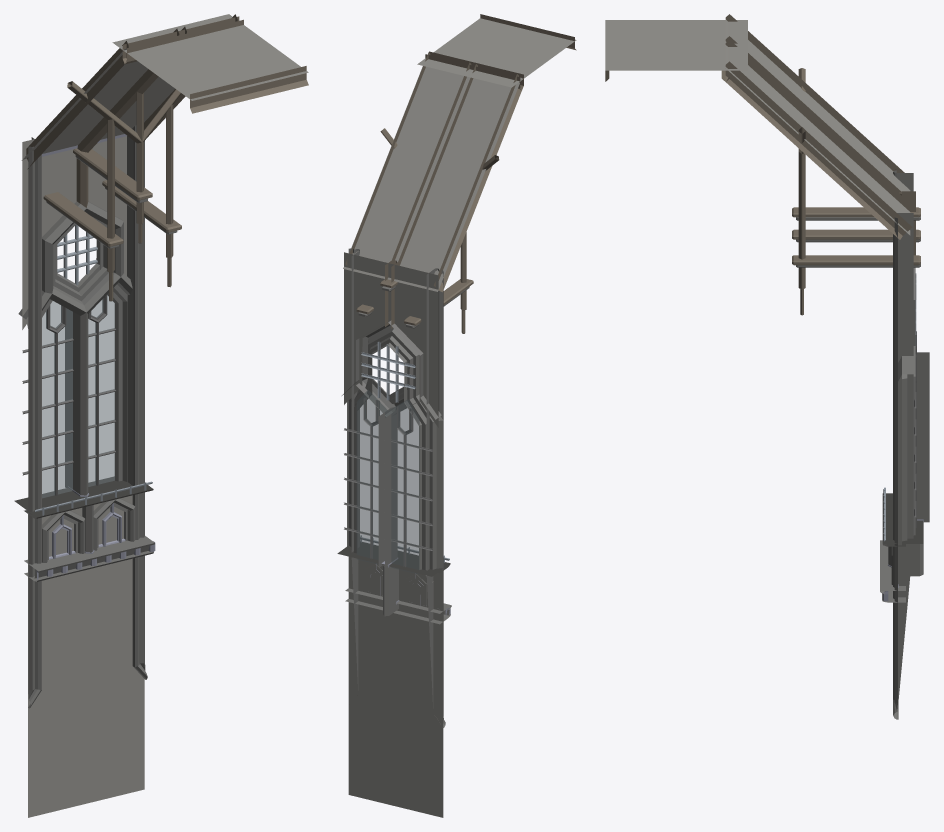
The model's file is Stair_Wall_Tile.fbx.
3 renders of one model, left to right at view 1: azimuth 30°, elevation 25°; view 2: azimuth 150°, elevation 25°; view 3: azimuth 270°, elevation 25°, orthographic. The views are drawn at different scales.
Visible parts, largest first — view 1: pCube15, polySurface2, pCube856, polySurface20, polySurface453, pCube109, polySurface459, polySurface68, pCube130, polySurface619, pCube18, pCube35 (+17 smaller); view 2: pCube15, pCube130, polySurface20, pCube109, pCube856, polySurface453, polySurface2, polySurface459, polySurface68, polySurface620, polySurface80, pCube35 (+9 smaller); view 3: polySurface2, pCube856, pCube130, polySurface82, polySurface20, polySurface68, polySurface80, polySurface620, pCube137, pCube135, polySurface93, pCube132 (+2 smaller).
Part boxes in pixels (x1,y1,x2,y2): pCube15: [28, 495, 144, 817]; polySurface2: [28, 125, 147, 708]; pCube856: [112, 14, 308, 100]; polySurface20: [18, 201, 132, 481]; polySurface453: [42, 301, 72, 498]; pCube109: [22, 136, 126, 329]; polySurface459: [88, 295, 114, 486]; polySurface68: [65, 308, 88, 495]; pCube130: [21, 48, 174, 160]; polySurface619: [190, 66, 308, 113]; pCube18: [24, 536, 154, 581]; pCube35: [14, 476, 153, 518]; pCube15: [348, 556, 443, 817]; pCube130: [343, 66, 521, 291]; polySurface20: [342, 320, 443, 569]; pCube109: [344, 252, 438, 427]; pCube856: [417, 18, 576, 87]; polySurface453: [388, 399, 419, 574]; polySurface2: [348, 248, 445, 728]; polySurface459: [356, 389, 388, 564]; polySurface68: [378, 407, 397, 569]; polySurface620: [434, 74, 521, 292]; polySurface80: [386, 62, 477, 275]; pCube35: [337, 542, 450, 576]; polySurface2: [893, 169, 913, 719]; pCube856: [605, 20, 747, 70]; pCube130: [725, 19, 910, 235]; polySurface82: [725, 61, 912, 239]; polySurface20: [898, 267, 915, 545]; polySurface68: [917, 352, 929, 522]; polySurface80: [725, 36, 904, 203]; polySurface620: [725, 14, 904, 172]; pCube137: [792, 255, 920, 265]; pCube135: [792, 229, 920, 239]; polySurface93: [798, 152, 805, 289]; pCube132: [792, 207, 920, 217].
Size of the model in its own units: 5 by 27.7 by 10.78.
